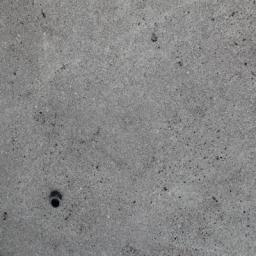FOD: (48, 191, 66, 211)
